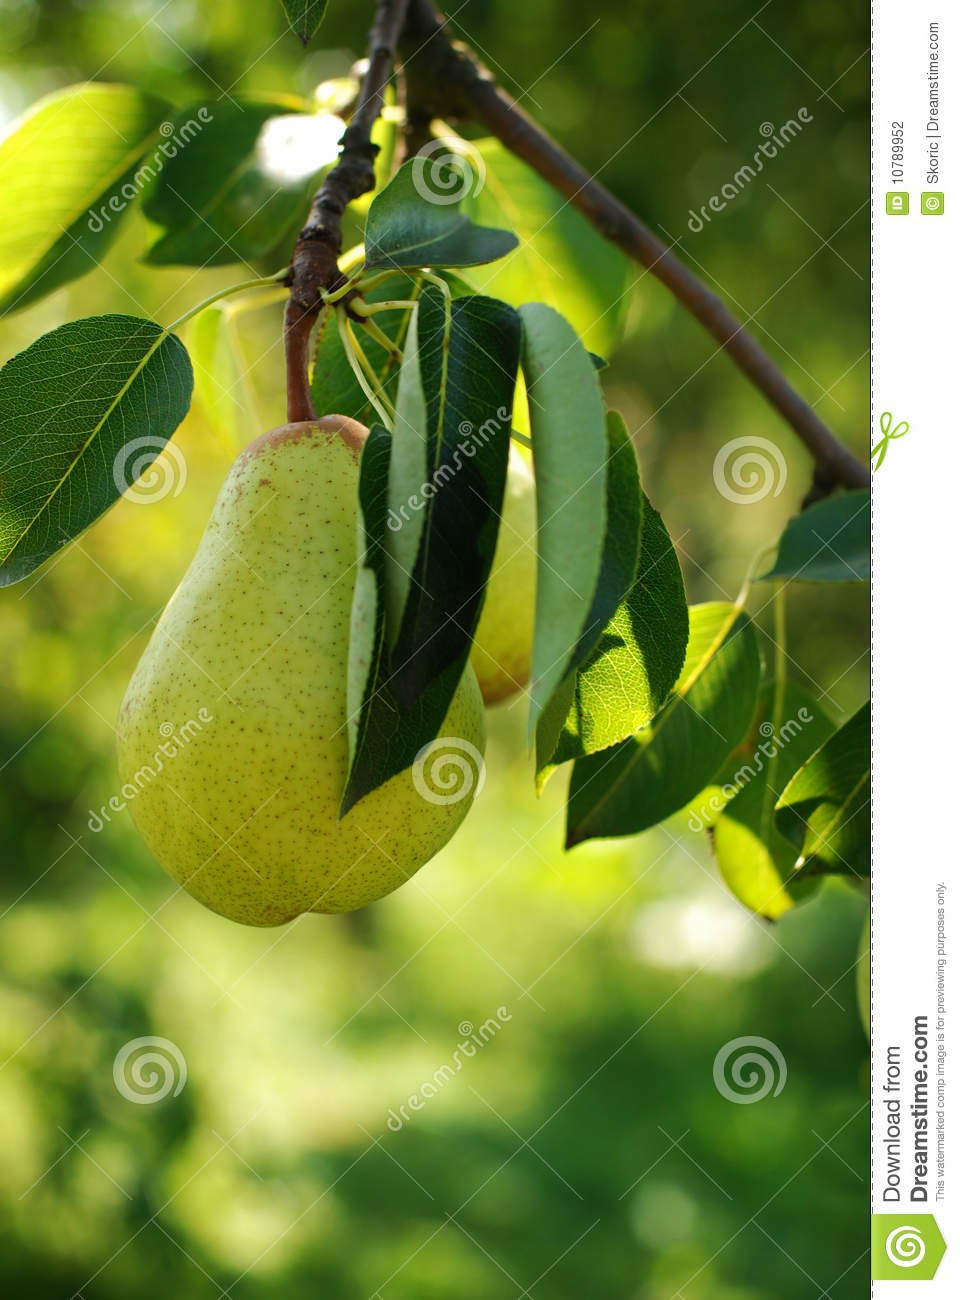pear: (115, 416, 485, 930)
